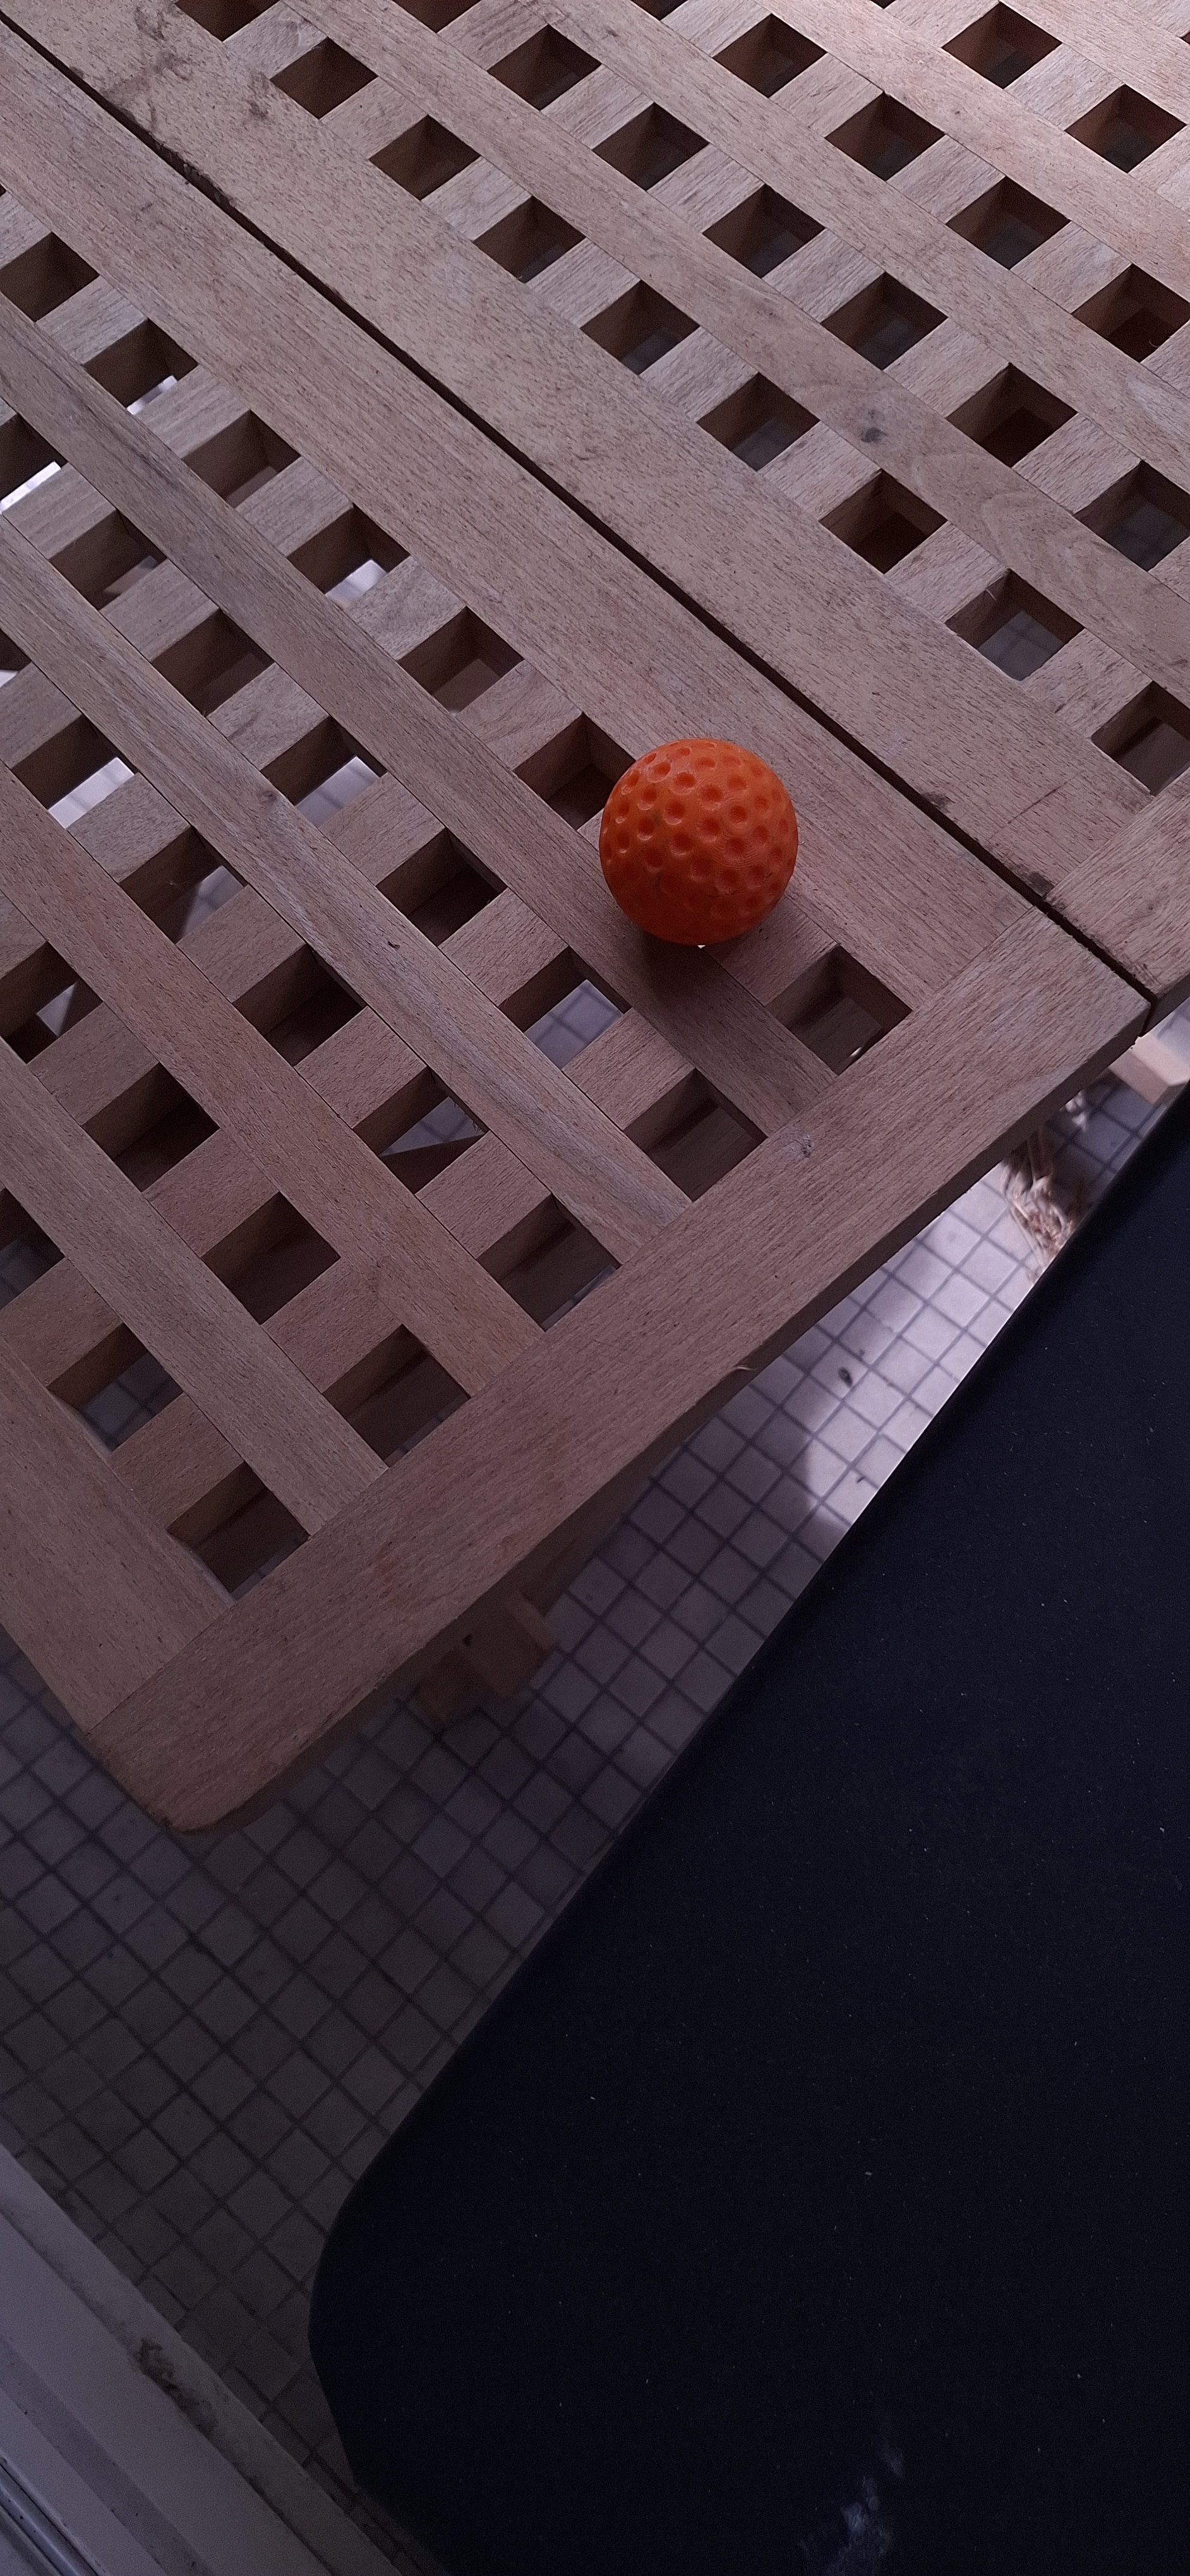ball: (340, 848, 437, 1283)
